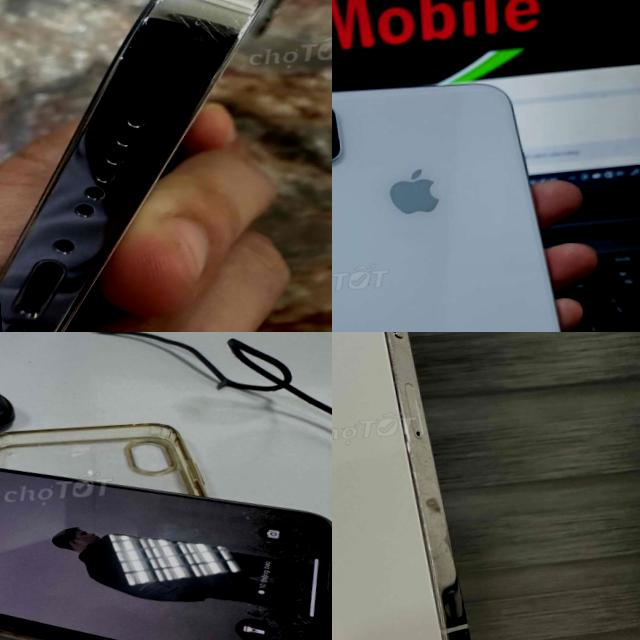gen_12_13: (332, 332, 480, 640)
gen_14: (0, 0, 332, 332)
gen_x_xs: (0, 423, 332, 640), (332, 74, 591, 332)
